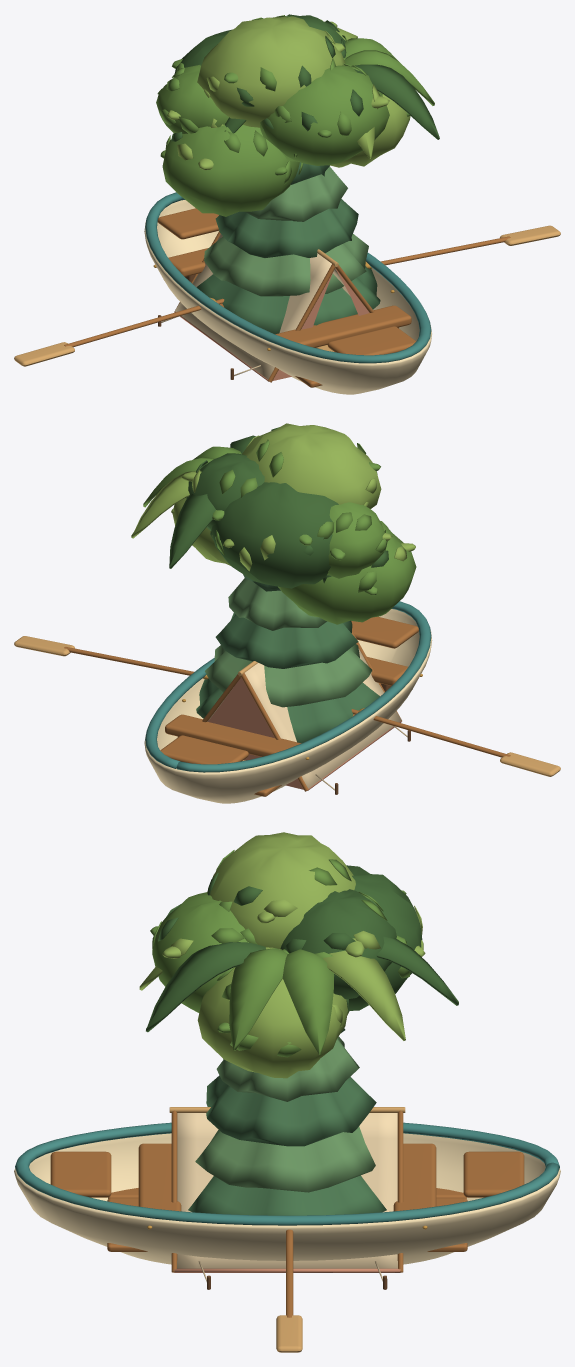
The model's file is cozy-world.glb.
The picture shows the model from 3 angles, top to bottom: view 1: azimuth 30°, elevation 25°; view 2: azimuth 150°, elevation 25°; view 3: azimuth 270°, elevation 25°; orthographic projection. The views are drawn at different scales.
Parts seen in each view (by area): view 1: Oak sculpted canopy.004, Boat cream planked hull, Oak sculpted canopy, Oak sculpted canopy.003, Pine sculpted branches.001, Pine sculpted branches.002, Boat teal rounded gunwale, Pine sculpted branches, Pine sculpted branches.003, Tent soft canvas side, Boat rounded bench, Oak sculpted canopy.006 (+14 smaller); view 2: Oak sculpted canopy.002, Boat cream planked hull, Oak sculpted canopy.004, Oak sculpted canopy, Pine sculpted branches.001, Pine sculpted branches.002, Boat teal rounded gunwale, Pine sculpted branches, Oak sculpted canopy.006, Pine sculpted branches.003, Tent soft canvas side, Boat rounded bench.002 (+14 smaller); view 3: Boat cream planked hull, Boat teal rounded gunwale, Oak sculpted canopy.004, Tent soft canvas side.001, Pine sculpted branches.001, Pine sculpted branches.002, Oak sculpted canopy.001, Pine sculpted branches, Oak sculpted canopy.005, Oak sculpted canopy.003, Pine sculpted branches.003, Palm sculpted frond (+14 smaller).
Boxes of the visible parts, x1,y1,x2,y2 form: Oak sculpted canopy.004: (197,16,345,127); Boat cream planked hull: (144,200,431,394); Oak sculpted canopy: (162,124,299,216); Oak sculpted canopy.003: (260,65,389,165); Pine sculpted branches.001: (204,234,368,296); Pine sculpted branches.002: (215,199,358,257); Boat teal rounded gunwale: (145,192,431,363); Pine sculpted branches: (196,266,380,334); Pine sculpted branches.003: (245,166,347,221); Tent soft canvas side: (175,234,331,379); Boat rounded bench: (275,305,411,347); Oak sculpted canopy.006: (156,65,228,133); Oak sculpted canopy.002: (211,482,338,588); Boat cream planked hull: (144,609,432,803); Oak sculpted canopy.004: (242,423,381,508); Oak sculpted canopy: (278,521,416,624); Pine sculpted branches.001: (205,644,372,707); Pine sculpted branches.002: (215,613,358,668); Boat teal rounded gunwale: (145,601,431,772); Pine sculpted branches: (196,678,379,743); Oak sculpted canopy.006: (327,502,384,578); Pine sculpted branches.003: (228,578,326,630); Tent soft canvas side: (244,648,401,788); Boat rounded bench.002: (165,714,301,756); Boat cream planked hull: (14,1133,560,1264); Boat teal rounded gunwale: (15,1122,559,1225); Oak sculpted canopy.004: (207,832,355,948); Tent soft canvas side.001: (177,1113,397,1268); Pine sculpted branches.001: (195,1126,375,1192); Pine sculpted branches.002: (206,1075,376,1146); Oak sculpted canopy.001: (197,947,347,1078); Pine sculpted branches: (188,1175,386,1215); Oak sculpted canopy.005: (280,889,396,999); Oak sculpted canopy.003: (152,892,248,1012); Pine sculpted branches.003: (216,1036,359,1101); Palm sculpted frond: (282,949,334,1054).
Size of the model in its own units: 6.34 by 3.67 by 4.59.
